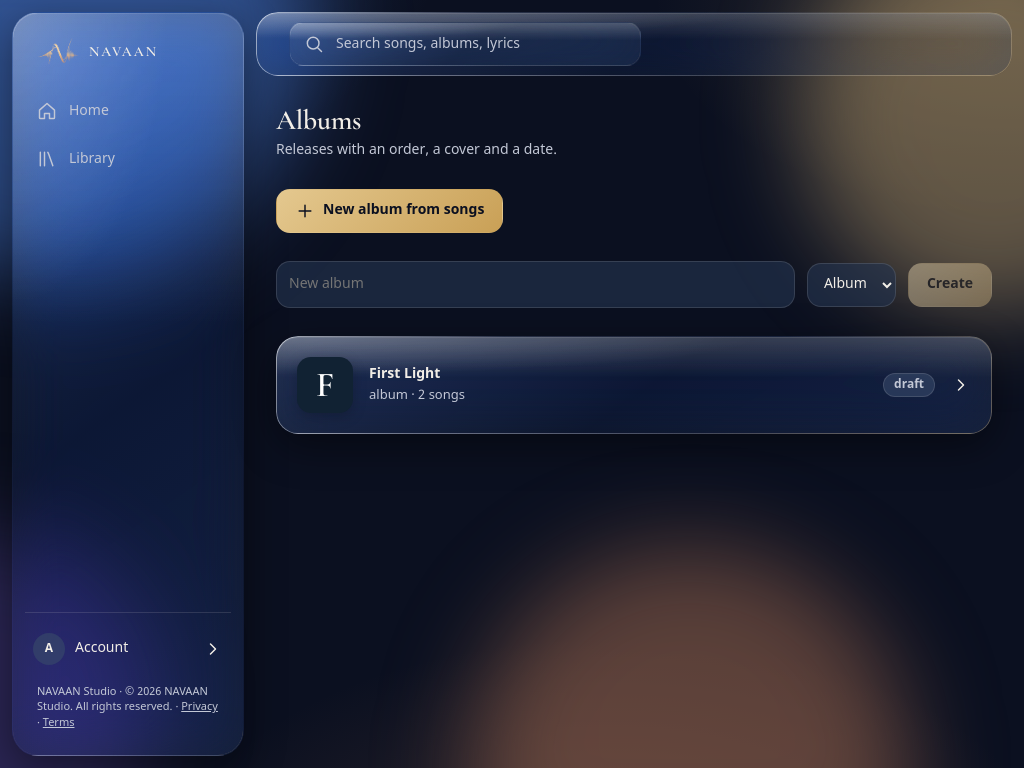
Test: Albums › creates an album and lists it with its kind and count
Expected: the link "F First Light album · 2 songs draft" is shown, [285,345,983,425]
Type "Road" into the field named "New album title". click: (535, 285)
box: [276,261,795,308]
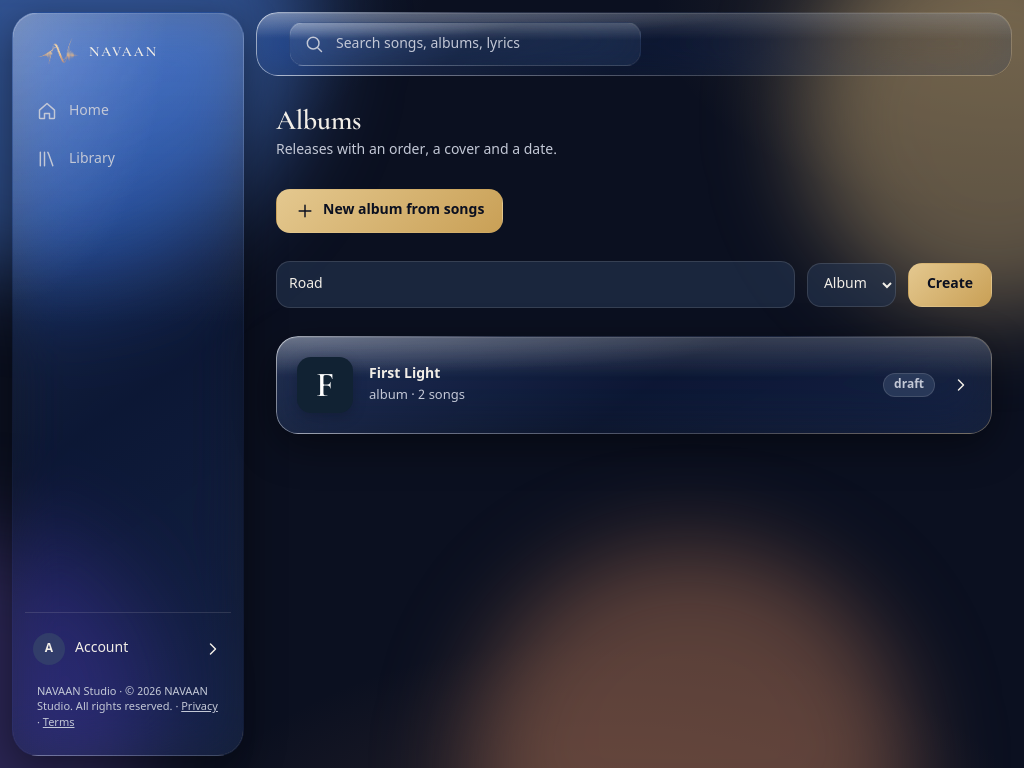
Select "EP" in the dropdown named "Kind". click: (851, 285)
box: [807,263,896,307]
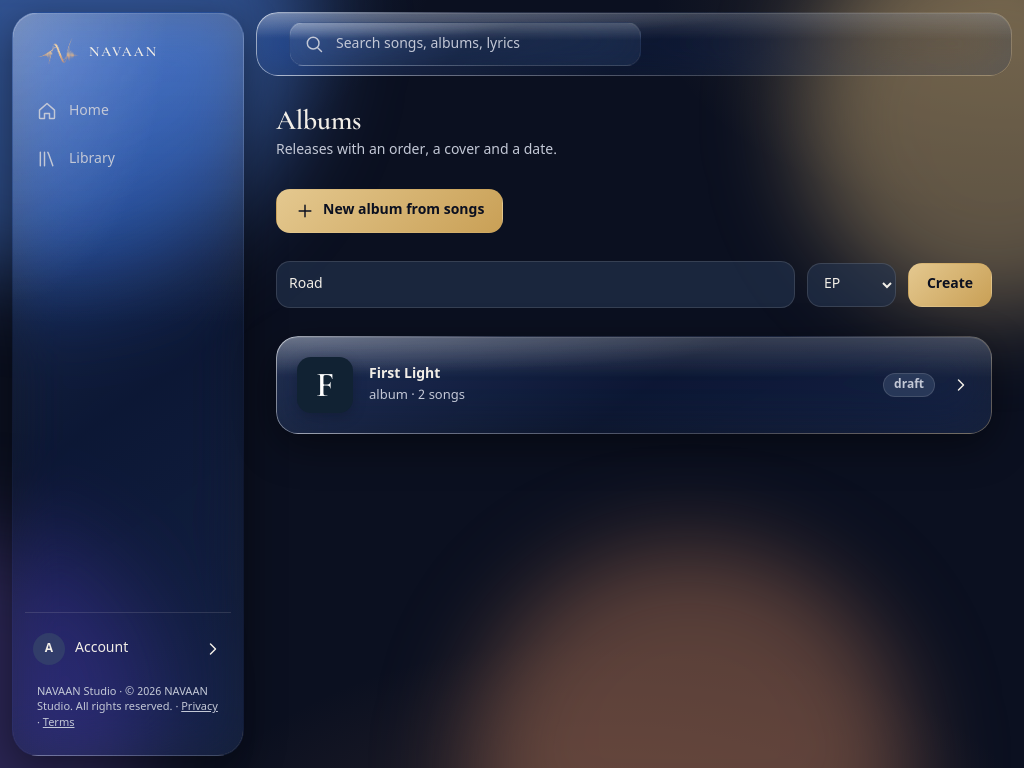
Click the button "Create". click: (950, 285)
box: [908,263,992,307]
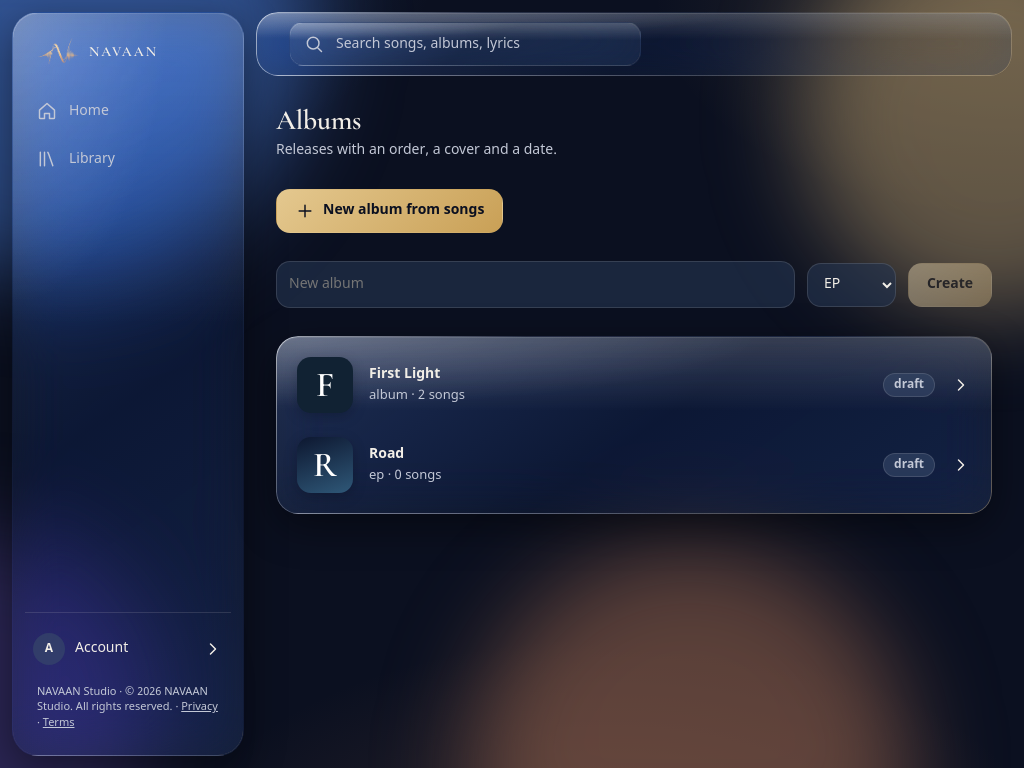
Expected: the link "R Road ep · 0 songs draft" is shown, [285,425,983,505]
